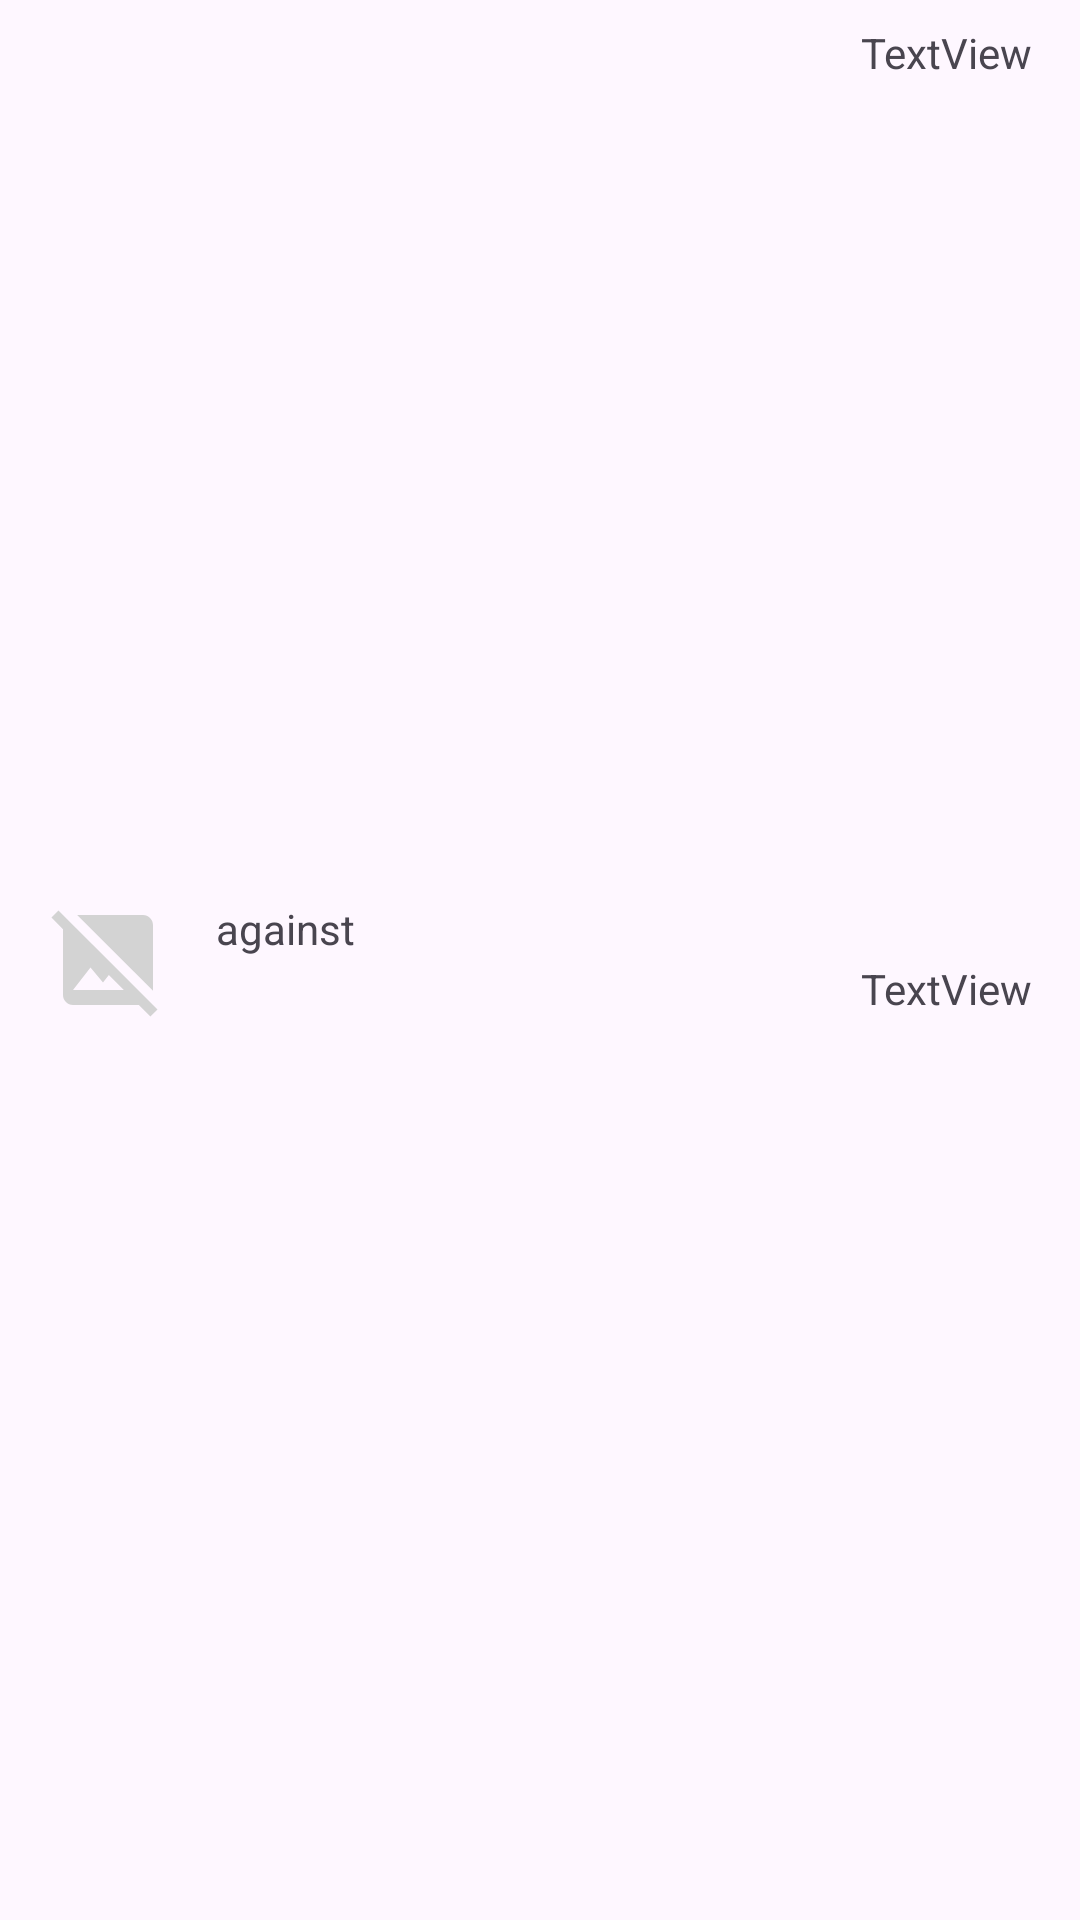

Locate icon controls on the screen. Image size 1080w x 1920h, boxes as (x1, y1, x2, y2).
not supported: (52, 911, 157, 1016)
